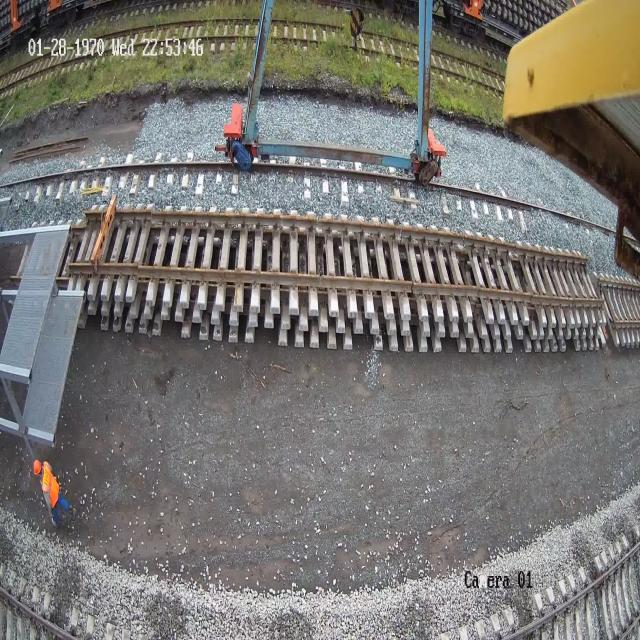Helmet: (33, 460, 41, 476)
Person: (32, 458, 70, 528)
